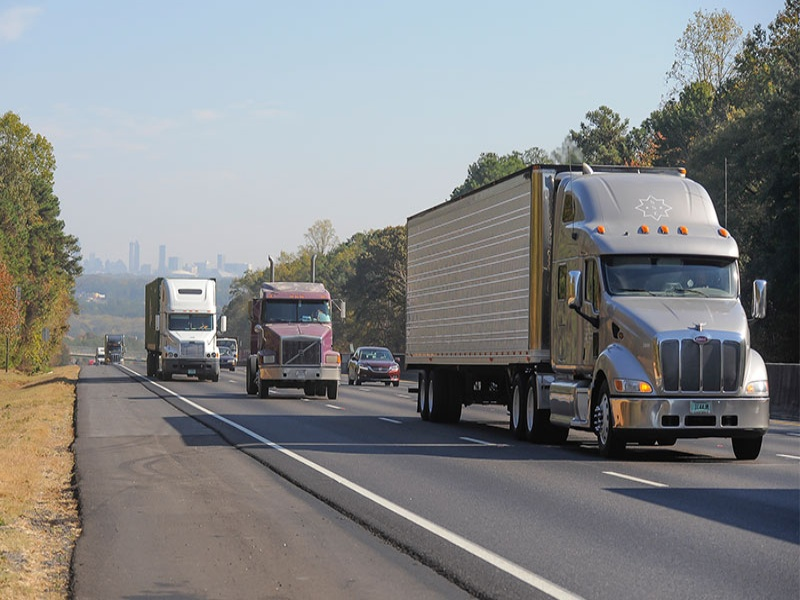car: (347, 340, 405, 396)
semi: (398, 155, 776, 458), (235, 251, 343, 412), (141, 264, 227, 388)
